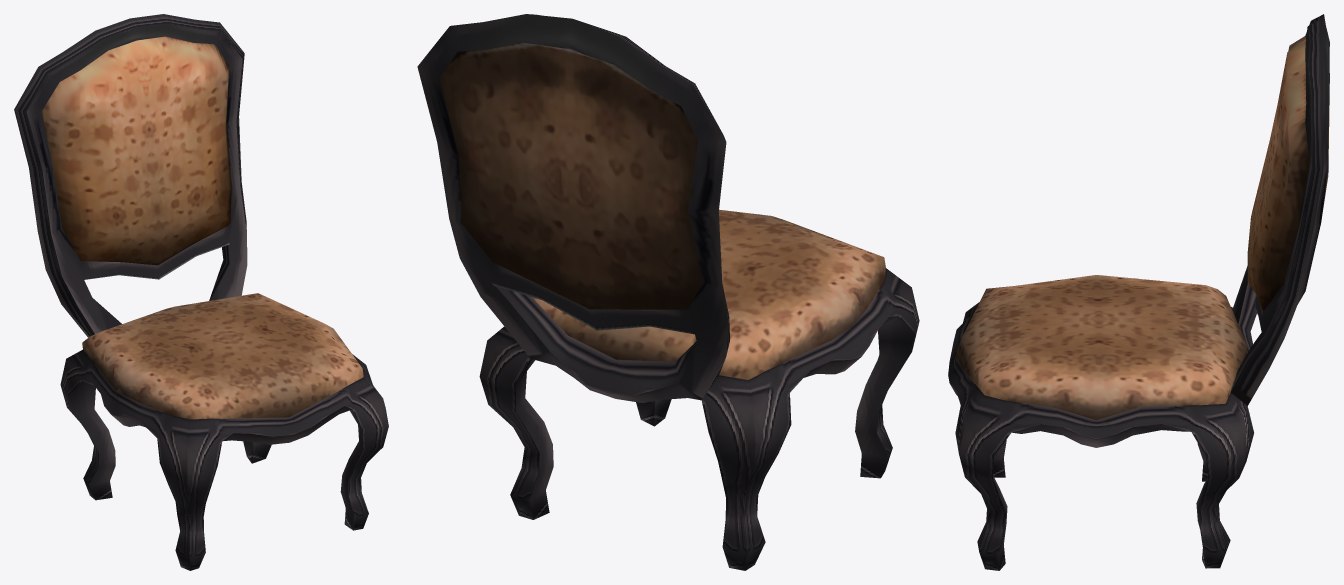
File: AntiqueChair_HD.fbx
3 views of the same model, side by side, from view 1: azimuth 30°, elevation 25°; view 2: azimuth 150°, elevation 25°; view 3: azimuth 270°, elevation 25° (orthographic). The views are drawn at different scales.
Parts seen in each view (by area): view 1: AntiqueChair; view 2: AntiqueChair; view 3: AntiqueChair.
Part boxes in pixels (<box>): AntiqueChair: <box>14,14,388,570</box>; AntiqueChair: <box>417,14,919,570</box>; AntiqueChair: <box>948,14,1329,570</box>.
Bounding box in the file's own units: 0.5681 × 0.9806 × 0.6969.
